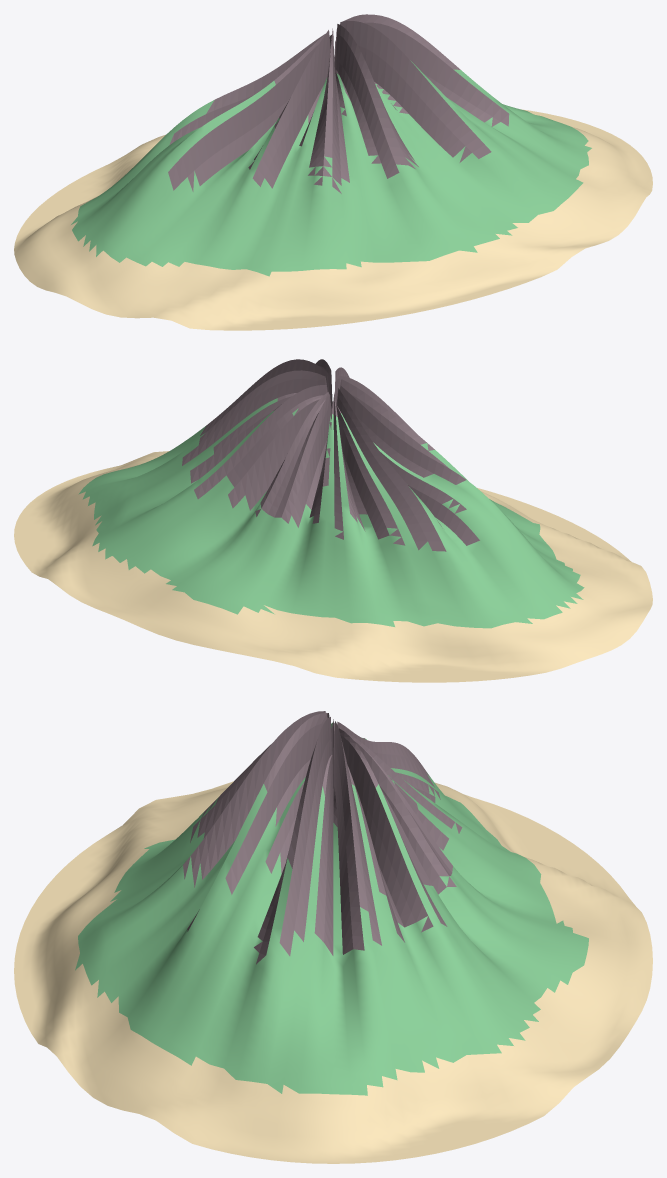
The model's file is BumperFarIslandB.glb.
The picture shows the model from 3 angles, top to bottom: view 1: azimuth 30°, elevation 25°; view 2: azimuth 150°, elevation 25°; view 3: azimuth 270°, elevation 25°; orthographic projection. The views are drawn at different scales.
Parts seen in each view (by area): view 1: Jungle, Sand, Rock; view 2: Jungle, Sand, Rock; view 3: Jungle, Sand, Rock.
Part boxes in pixels (x1,y1,x2,y2): Jungle: (71, 60, 591, 276); Sand: (14, 109, 652, 330); Rock: (168, 14, 509, 193); Jungle: (78, 398, 584, 628); Sand: (14, 451, 652, 682); Rock: (182, 359, 479, 551); Jungle: (75, 722, 588, 1095); Sand: (14, 781, 652, 1163); Rock: (183, 711, 462, 964).
Bounding box in the file's own units: 200 × 63.97 × 140.
